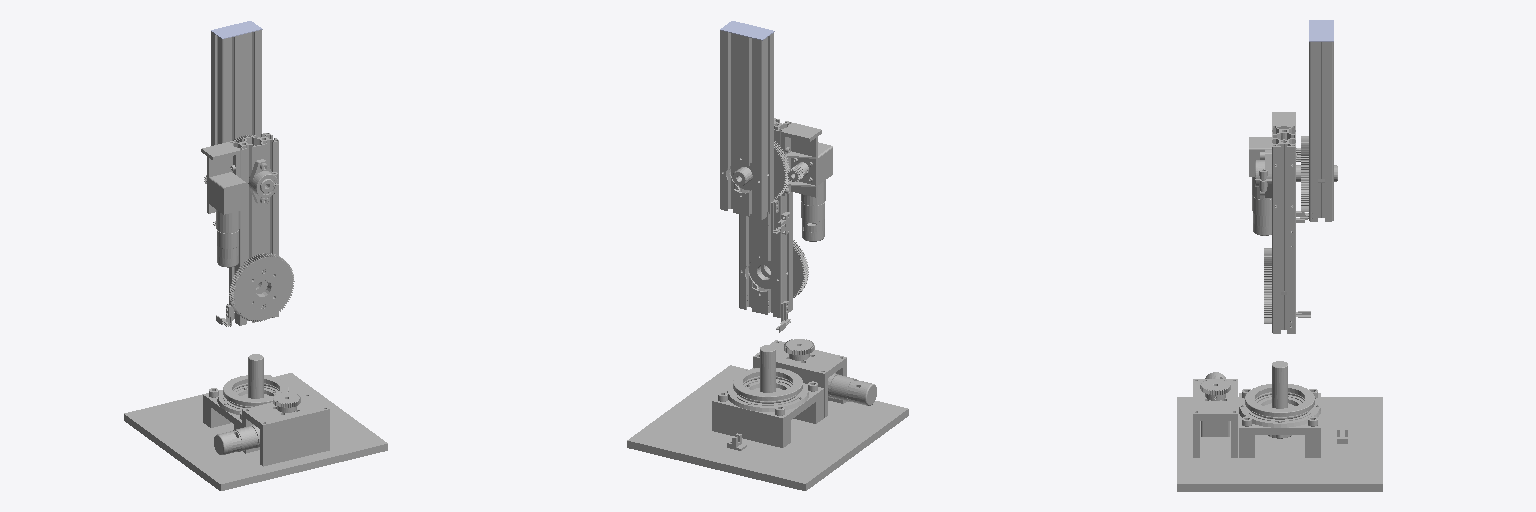
URDF robot description (robot_model):
<robot
  name="robot_model">
  <link
    name="link_0">
    <inertial>
      <origin
        xyz="-0.00232710842195227 -0.0144408835439939 0.0231231564206338"
        rpy="0 0 0" />
      <mass
        value="1.34307738903579" />
      <inertia
        ixx="0.00574561737447387"
        ixy="-0.000200249090827777"
        ixz="5.61323819795275E-05"
        iyy="0.00467093003991931"
        iyz="0.000428350068895294"
        izz="0.00917330600237794" />
    </inertial>
    <visual>
      <origin
        xyz="0 0 0"
        rpy="0 0 0" />
      <geometry>
        <mesh
          filename="package://robot_model/meshes/link_0.STL" />
      </geometry>
      <material
        name="">
        <color
          rgba="0.752941176470588 0.752941176470588 0.752941176470588 1" />
      </material>
    </visual>
    <collision>
      <origin
        xyz="0 0 0"
        rpy="0 0 0" />
      <geometry>
        <mesh
          filename="package://robot_model/meshes/link_0.STL" />
      </geometry>
    </collision>
  </link>
  <link
    name="link_1">
    <inertial>
      <origin
        xyz="-0.00395971171466654 -0.004119787840204 0.09518416917862"
        rpy="0 0 0" />
      <mass
        value="1.81398480575769" />
      <inertia
        ixx="0.0100126053454015"
        ixy="-0.000364424782915017"
        ixz="0.000286211821871237"
        iyy="0.00820539900853185"
        iyz="0.000305961581382389"
        izz="0.0056051683025685" />
    </inertial>
    <visual>
      <origin
        xyz="0 0 0"
        rpy="0 0 0" />
      <geometry>
        <mesh
          filename="package://robot_model/meshes/link_1.STL" />
      </geometry>
      <material
        name="">
        <color
          rgba="0.752941176470588 0.752941176470588 0.752941176470588 1" />
      </material>
    </visual>
    <collision>
      <origin
        xyz="0 0 0"
        rpy="0 0 0" />
      <geometry>
        <mesh
          filename="package://robot_model/meshes/link_1.STL" />
      </geometry>
    </collision>
  </link>
  <joint
    name="joint_0"
    type="revolute">
    <origin
      xyz="0 0 0.0585016666666667"
      rpy="-3.94789498183539E-49 0 0" />
    <parent
      link="link_0" />
    <child
      link="link_1" />
    <axis
      xyz="0 0 1" />
    <limit effort="0" velocity="0.1" lower="-1.6" upper="1.6"/>
  </joint>
  <link
    name="link_2">
    <inertial>
      <origin
        xyz="-0.00736583102684016 0.10015133978228 -0.00154305896208883"
        rpy="0 0 0" />
      <mass
        value="0.971517071633432" />
      <inertia
        ixx="0.0049797785722039"
        ixy="0.000191333863125737"
        ixz="9.88560461413013E-05"
        iyy="0.000928834939829243"
        iyz="8.25138819612524E-05"
        izz="0.00509064923332131" />
    </inertial>
    <visual>
      <origin
        xyz="0 0 0"
        rpy="0 0 0" />
      <geometry>
        <mesh
          filename="package://robot_model/meshes/link_2.STL" />
      </geometry>
      <material
        name="">
        <color
          rgba="0.752941176470588 0.752941176470588 0.752941176470588 1" />
      </material>
    </visual>
    <collision>
      <origin
        xyz="0 0 0"
        rpy="0 0 0" />
      <geometry>
        <mesh
          filename="package://robot_model/meshes/link_2.STL" />
      </geometry>
    </collision>
  </link>
  <joint
    name="joint_1"
    type="revolute">
    <origin
      xyz="0 0 0.158498333333333"
      rpy="1.5707963267949 6.84227765783602E-48 0" />
    <parent
      link="link_1" />
    <child
      link="link_2" />
    <axis
      xyz="0 0 -1" />
    <limit effort="0" velocity="0.1" lower="0" upper="2"/>
  </joint>
  <link
    name="link_3">
    <inertial>
      <origin
        xyz="0.0549754467413615 9.87189423022383E-05 -0.00256890572823837"
        rpy="0 0 0" />
      <mass
        value="0.486705250562202" />
      <inertia
        ixx="0.000225820597413643"
        ixy="5.516013617665E-06"
        ixz="6.59858451448609E-05"
        iyy="0.00234409340064391"
        iyz="-4.59495574636291E-07"
        izz="0.00246329309360515" />
    </inertial>
    <visual>
      <origin
        xyz="0 0 0"
        rpy="0 0 0" />
      <geometry>
        <mesh
          filename="package://robot_model/meshes/link_3.STL" />
      </geometry>
      <material
        name="">
        <color
          rgba="0.752941176470588 0.752941176470588 0.752941176470588 1" />
      </material>
    </visual>
    <collision>
      <origin
        xyz="0 0 0"
        rpy="0 0 0" />
      <geometry>
        <mesh
          filename="package://robot_model/meshes/link_3.STL" />
      </geometry>
    </collision>
  </link>
  <joint
    name="joint_2"
    type="revolute">
    <origin
      xyz="0 0.15 -0.0450000000000002"
      rpy="0 -3.94789498183539E-49 1.5707963267949" />
    <parent
      link="link_2" />
    <child
      link="link_3" />
    <axis
      xyz="0 0 -1" />
    <limit effort="0" velocity="0.1" lower="0" upper="2"/>
  </joint>
  <link
    name="End_effector">
    <inertial>
      <origin
        xyz="0.000499999999999723 -7.99308111097638E-17 -4.85722573273506E-17"
        rpy="0 0 0" />
      <mass
        value="0.00179999999999999" />
      <inertia
        ixx="6.74999999999993E-07"
        ixy="4.13590306276535E-25"
        ixz="-6.69648270202051E-38"
        iyy="1.35149999999997E-07"
        iyz="-1.57231134579119E-22"
        izz="5.40149999999996E-07" />
    </inertial>
    <visual>
      <origin
        xyz="0 0 0"
        rpy="0 0 0" />
      <geometry>
        <mesh
          filename="package://robot_model/meshes/End_effector.STL" />
      </geometry>
      <material
        name="">
        <color
          rgba="0.792156862745098 0.819607843137255 0.933333333333333 1" />
      </material>
    </visual>
    <collision>
      <origin
        xyz="0 0 0"
        rpy="0 0 0" />
      <geometry>
        <mesh
          filename="package://robot_model/meshes/End_effector.STL" />
      </geometry>
    </collision>
  </link>
  <joint
    name="fixed"
    type="fixed">
    <origin
      xyz="0.19 0 -0.00499999999999988"
      rpy="0 -3.94789498183539E-49 0" />
    <parent
      link="link_3" />
    <child
      link="End_effector" />
    <axis
      xyz="0 0 0" />
  </joint>
</robot>

--- What the picture shows (computed from the rendered views, not written in the file) ---
3 views of the same robot in one strip: view 1: azimuth 30°, elevation 25°; view 2: azimuth 150°, elevation 25°; view 3: azimuth 270°, elevation 25° (orthographic).
Robot: robot_model — 5 links, 4 joints (3 revolute, 1 fixed); root link link_0; default pose: every joint at zero.
Visible links, largest first — view 1: link_0, link_2, link_3; view 2: link_0, link_2, link_3, End_effector; view 3: link_0, link_2, link_3, End_effector.
Link boxes in pixels (x1,y1,x2,y2): link_0: [124, 354, 387, 490]; link_2: [201, 133, 294, 326]; link_3: [211, 30, 261, 225]; link_0: [627, 339, 908, 490]; link_2: [732, 118, 832, 332]; link_3: [720, 30, 789, 233]; End_effector: [720, 21, 774, 40]; link_0: [1177, 361, 1382, 491]; link_2: [1249, 112, 1337, 333]; link_3: [1300, 42, 1333, 221]; End_effector: [1309, 20, 1333, 41].
Bounding box of the posed robot: 0.25 × 0.25 × 0.558 m (x, y, z).
4 mesh visuals loaded from 5 distinct referenced files (4 binary STL); not drawn: 1 (reference not matched to a file when rendering).